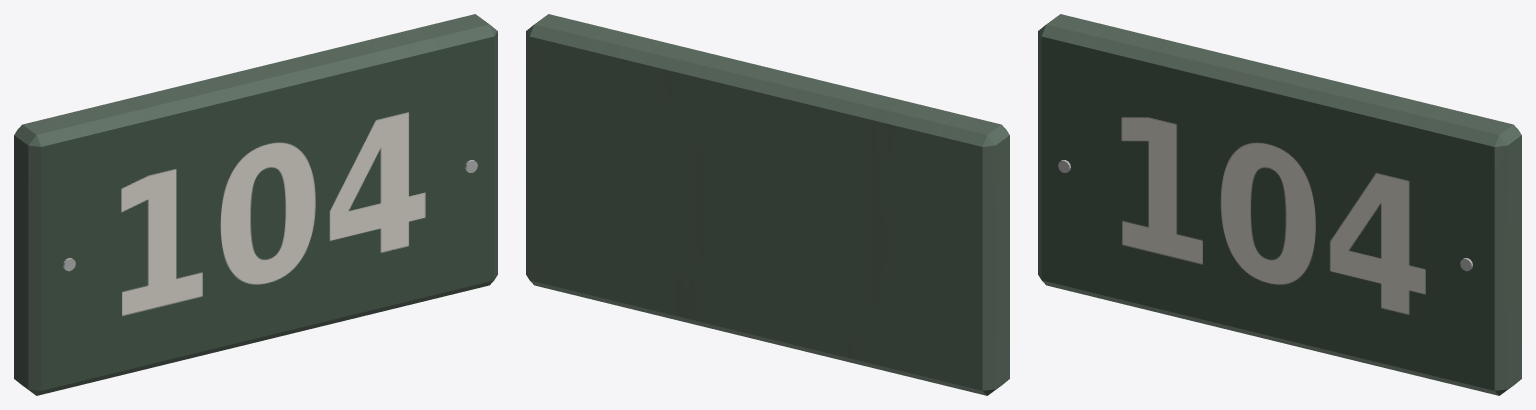
The model's file is room_number_104.glb.
The picture shows the model from 3 angles, left to right: view 1: azimuth 30°, elevation 25°; view 2: azimuth 150°, elevation 25°; view 3: azimuth 330°, elevation 25°; orthographic projection.
Visible parts, largest first — view 1: INSTANCE__room_number_plaque__018; view 2: INSTANCE__room_number_plaque__018; view 3: INSTANCE__room_number_plaque__018.
Boxes of the visible parts, x1=… form: INSTANCE__room_number_plaque__018: x1=14, y1=14, x2=497, y2=395; INSTANCE__room_number_plaque__018: x1=526, y1=14, x2=1009, y2=395; INSTANCE__room_number_plaque__018: x1=1038, y1=14, x2=1521, y2=395.
Bounding box in the file's own units: 0.32 × 0.17 × 0.0318.
3 materials, 2 textured.
